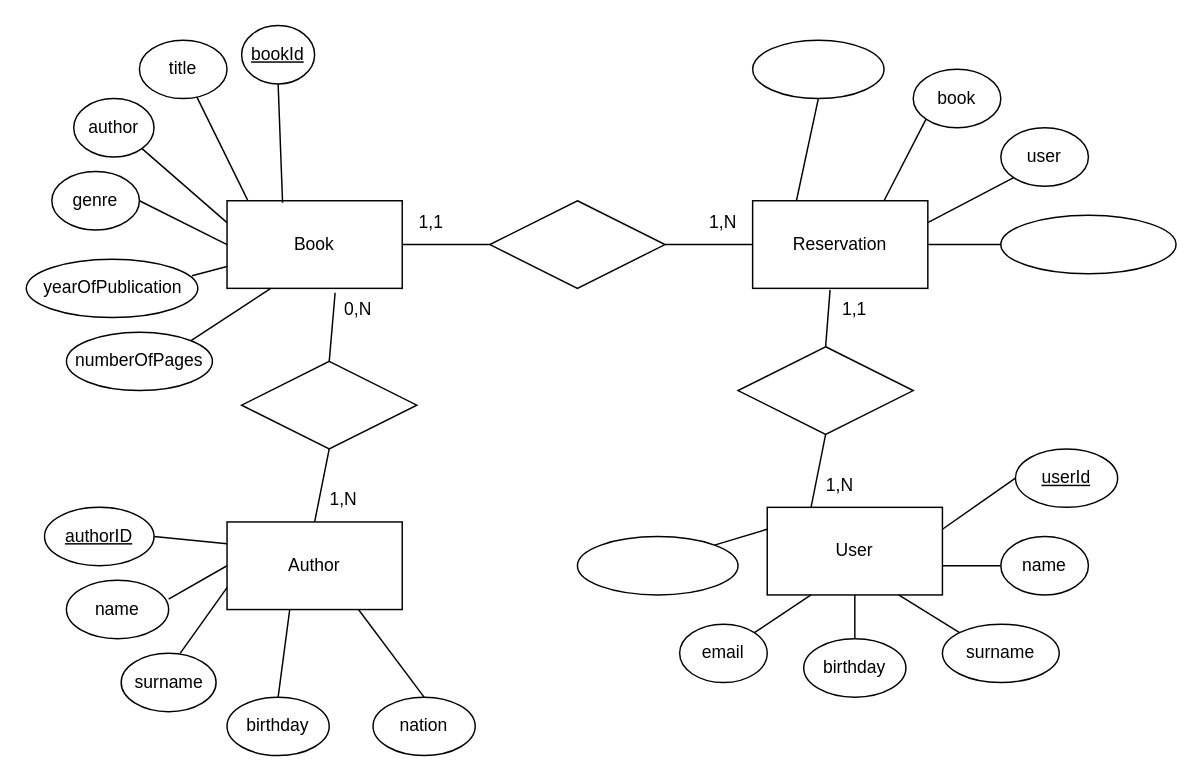
This 1202x781 diagram has some shape labels left out. Each missing label, with the centre of its shape:
"dateOfRegistration" belongs at point 657,565.
"dateOfReservation" belongs at point 1087,244.
"makes" belongs at point 825,389.
"reservationId" belongs at point 817,69.
"reserved" belongs at point 576,243.
"writes" belongs at point 328,404.
